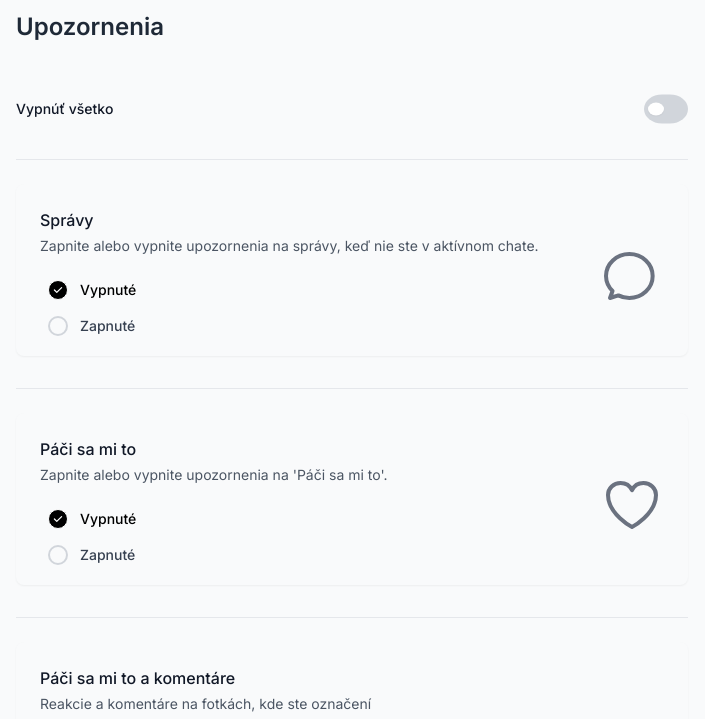
NotificationSettingsModule › keeps the preference off and shows a browser guidance message when permission is denied
Click the 1st button "Zapnuté". click: (108, 326)
box: [40,308,600,344]
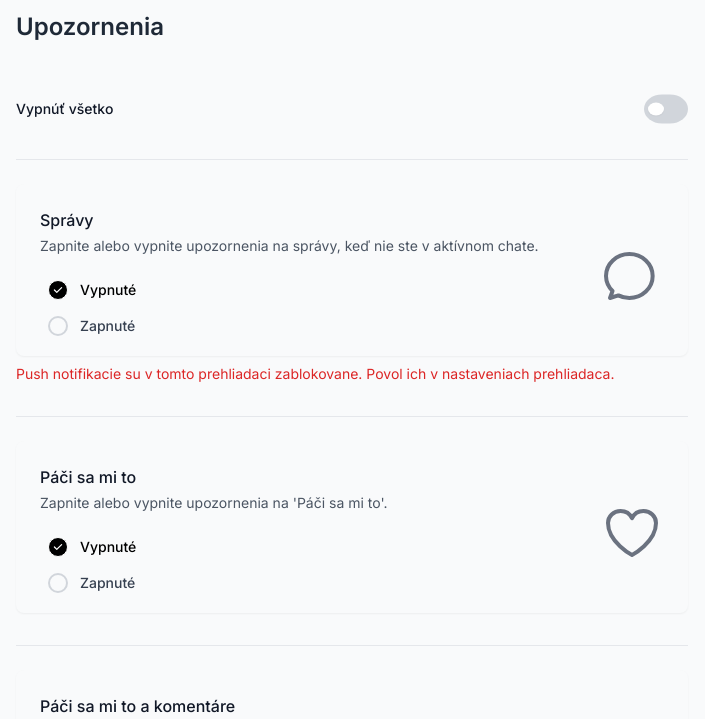
Expected: the text "Push notifikacie su v tomto prehliadaci zablokovane. Povol ich v nastaveniach prehliadaca." is shown, [16,365,614,382]
